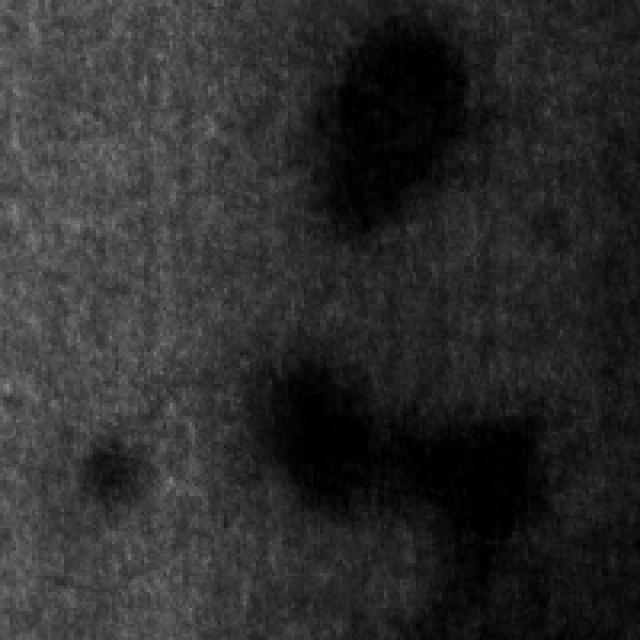patches: (291, 403, 554, 608), (310, 9, 480, 230), (240, 346, 400, 515), (77, 432, 160, 515)
